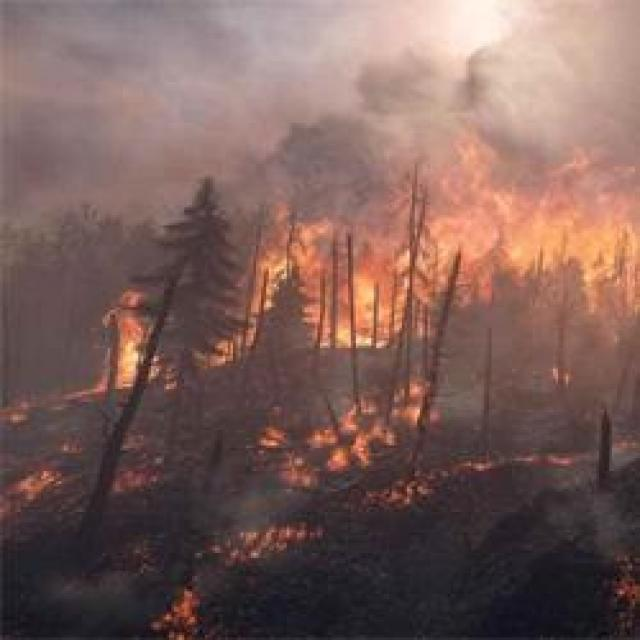fire: (577, 227, 612, 258), (121, 339, 138, 384), (511, 228, 534, 258), (355, 283, 371, 301)
smoke: (557, 1, 640, 170), (4, 1, 149, 94), (150, 1, 260, 92), (467, 44, 565, 141), (18, 94, 114, 187), (290, 125, 367, 206), (361, 58, 434, 112), (497, 122, 547, 178)
